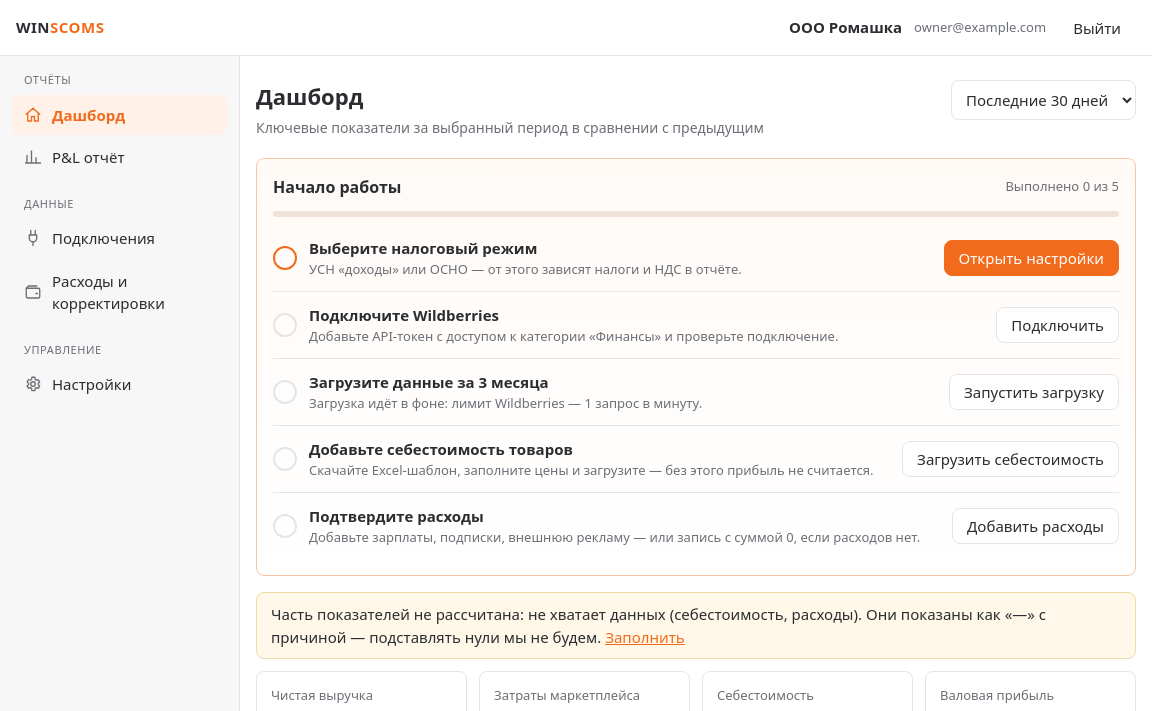
Test: вход и защита маршрутов › выход возвращает на экран входа
Click the button "Выйти". click: point(1097, 28)
box: [1058,10,1136,46]
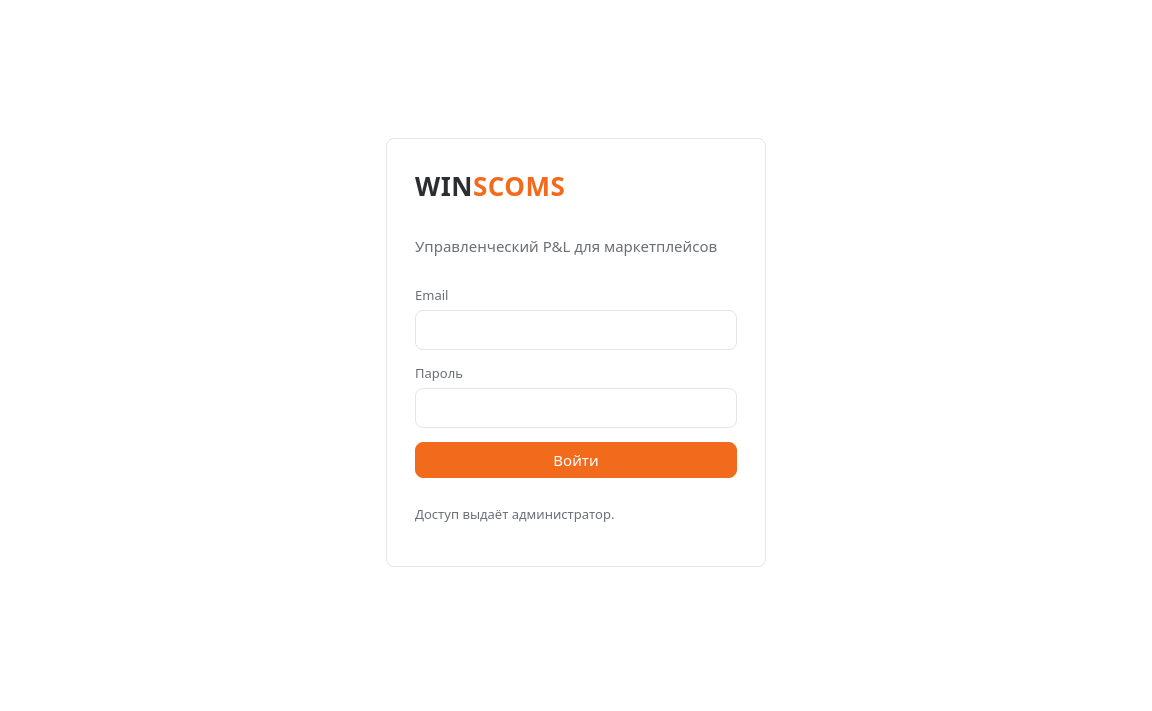
Check: the form named "Вход" is shown, box [386,138,766,566]
